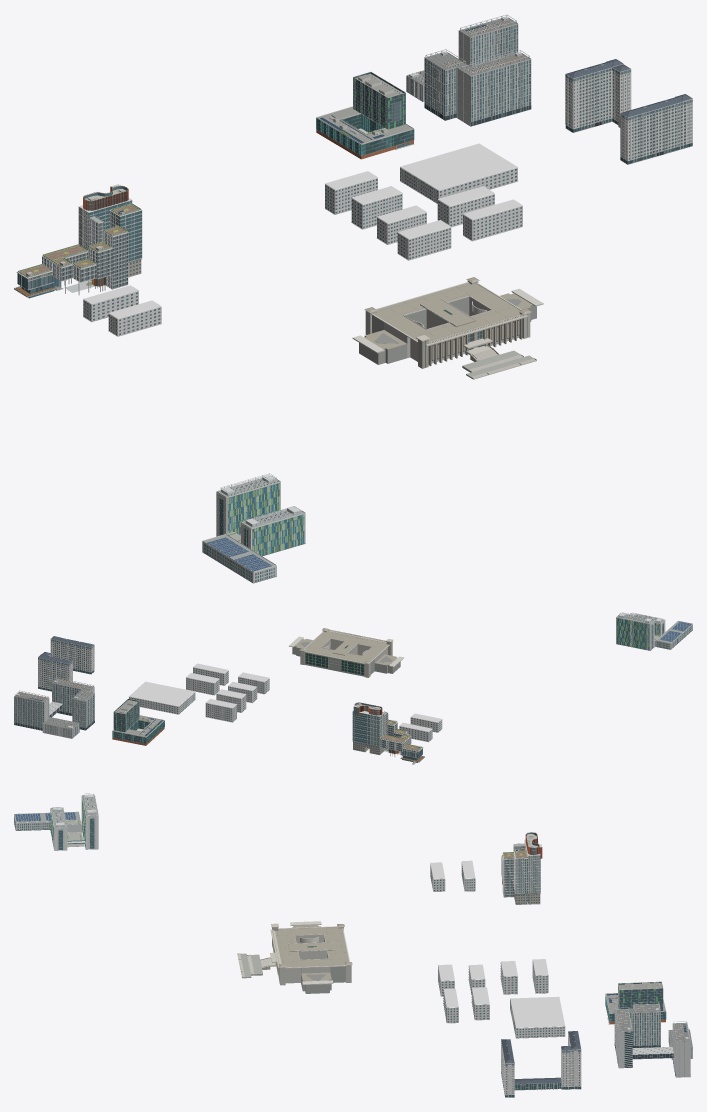
Rendered from seu_reused_buildings_v02.glb.
3 views of the same model, one above another, from view 1: azimuth 30°, elevation 25°; view 2: azimuth 150°, elevation 25°; view 3: azimuth 270°, elevation 25° (orthographic). The views are drawn at different scales.
Parts seen in each view (by area): view 1: SEU_B_OSMWAY_549677715__0002, SEU_B_OSMWAY_549677715__0001, SEU_B_OSMWAY_1056927536__0002, SEU_B_OSMWAY_1056927536__0001, SEU_B_OSMWAY_1056927536__0003, SEU_B_OSMWAY_300030305__0002, SEU_B_OSMWAY_1056927537__0001, SEU_B_OSMWAY_1056927537__0002, SEU_B_OSMWAY_1056927534__0017, SEU_B_OSMWAY_1056927536__0006, SEU_B_OSMWAY_300030310__0960, SEU_B_OSMWAY_300030305__0003 (+17 smaller); view 2: SEU_B_OSMWAY_1056927536__0002, SEU_B_OSMWAY_1056927536__0003, SEU_B_OSMWAY_549677715__0002, SEU_B_OSMWAY_549677715__0001, SEU_B_OSMWAY_1056927536__0001, SEU_B_OSMWAY_1056927538__0001, SEU_B_OSMWAY_300030305__0002, SEU_B_OSMWAY_1056927537__0001, SEU_B_OSMWAY_1056927536__0006, SEU_B_OSMWAY_1056927537__0002, SEU_B_OSMWAY_1056927534__0017, SEU_B_OSMWAY_300030305__0003 (+21 smaller); view 3: SEU_B_OSMWAY_300030305__0002, SEU_B_OSMWAY_1056927536__0001, SEU_B_OSMWAY_549677715__0002, SEU_B_OSMWAY_1056927537__0002, SEU_B_OSMWAY_549677715__0001, SEU_B_OSMWAY_1056927536__0003, SEU_B_OSMWAY_1056927536__0006, SEU_B_OSMWAY_1056927536__0002, SEU_B_OSMWAY_549677715__0004, SEU_B_OSMWAY_300030310__0960, SEU_B_OSMWAY_300030310__0961, SEU_B_OSMWAY_1056927534__0029 (+6 smaller).
Boxes of the visible parts, x1,y1,x2,y2 form: SEU_B_OSMWAY_549677715__0002: [565, 64, 692, 164]; SEU_B_OSMWAY_549677715__0001: [565, 71, 692, 164]; SEU_B_OSMWAY_1056927536__0002: [407, 24, 530, 121]; SEU_B_OSMWAY_1056927536__0001: [407, 24, 531, 126]; SEU_B_OSMWAY_1056927536__0003: [406, 25, 531, 121]; SEU_B_OSMWAY_300030305__0002: [400, 143, 517, 190]; SEU_B_OSMWAY_1056927537__0001: [316, 107, 414, 159]; SEU_B_OSMWAY_1056927537__0002: [353, 71, 405, 129]; SEU_B_OSMWAY_1056927534__0017: [228, 483, 304, 555]; SEU_B_OSMWAY_1056927536__0006: [406, 17, 531, 85]; SEU_B_OSMWAY_300030310__0960: [373, 283, 487, 321]; SEU_B_OSMWAY_300030305__0003: [400, 167, 517, 203]; SEU_B_OSMWAY_1056927536__0002: [14, 684, 94, 737]; SEU_B_OSMWAY_1056927536__0003: [14, 683, 94, 738]; SEU_B_OSMWAY_549677715__0002: [38, 639, 94, 691]; SEU_B_OSMWAY_549677715__0001: [38, 641, 94, 691]; SEU_B_OSMWAY_1056927536__0001: [15, 684, 94, 738]; SEU_B_OSMWAY_1056927538__0001: [352, 710, 384, 746]; SEU_B_OSMWAY_300030305__0002: [129, 681, 195, 706]; SEU_B_OSMWAY_1056927537__0001: [112, 715, 164, 745]; SEU_B_OSMWAY_1056927536__0006: [14, 679, 94, 729]; SEU_B_OSMWAY_1056927537__0002: [113, 698, 139, 732]; SEU_B_OSMWAY_1056927534__0017: [617, 618, 659, 649]; SEU_B_OSMWAY_300030305__0003: [129, 692, 195, 714]; SEU_B_OSMWAY_300030305__0002: [510, 996, 565, 1028]; SEU_B_OSMWAY_1056927536__0001: [618, 1012, 692, 1077]; SEU_B_OSMWAY_549677715__0002: [501, 1031, 581, 1097]; SEU_B_OSMWAY_1056927537__0002: [618, 981, 663, 1010]; SEU_B_OSMWAY_549677715__0001: [504, 1051, 580, 1097]; SEU_B_OSMWAY_1056927536__0003: [614, 1005, 692, 1073]; SEU_B_OSMWAY_1056927536__0006: [615, 1003, 692, 1047]; SEU_B_OSMWAY_1056927536__0002: [614, 1005, 691, 1064]; SEU_B_OSMWAY_549677715__0004: [501, 1031, 581, 1084]; SEU_B_OSMWAY_300030310__0960: [322, 927, 348, 965]; SEU_B_OSMWAY_300030310__0961: [275, 928, 300, 967]; SEU_B_OSMWAY_1056927534__0029: [14, 795, 98, 827].
Size of the model in its own units: 918 by 87.32 by 948.
